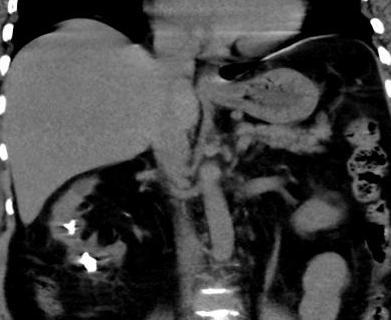Tas_Var: (77, 247, 101, 278), (61, 217, 78, 237)
